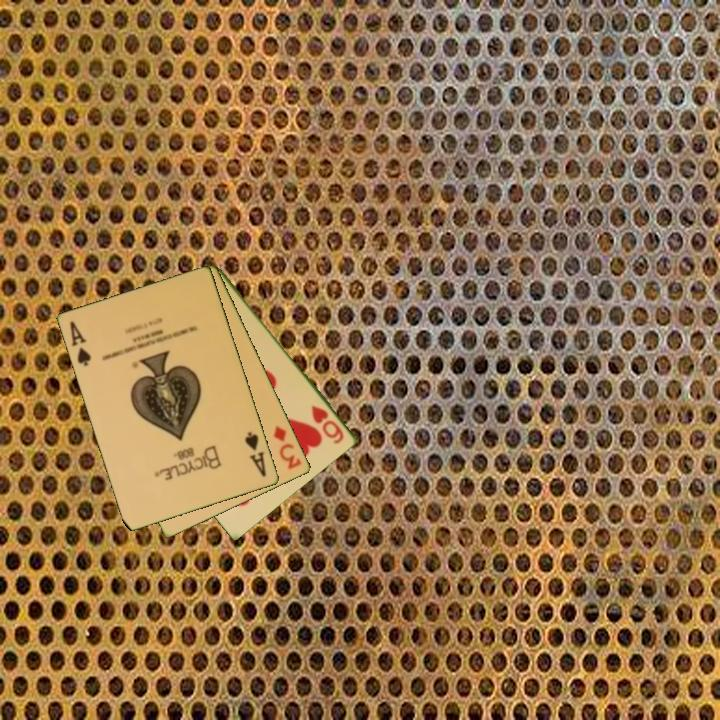3d: (270, 422, 304, 472)
6h: (308, 402, 347, 447)
As: (242, 428, 269, 480), (67, 318, 94, 369)
